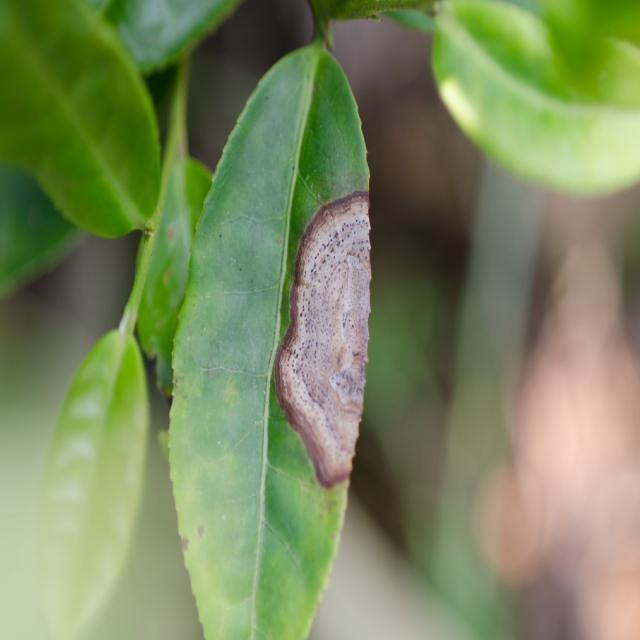Tea cloud leaf blight: (275, 202, 377, 486)
